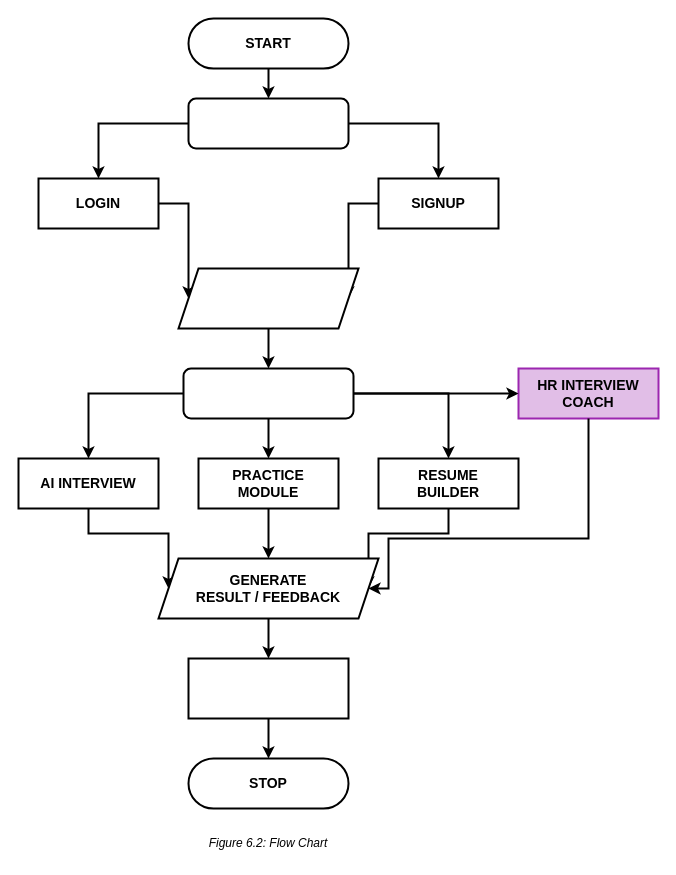
This 676x875 diagram has some shape labels left out. Each missing label, with the centre of its shape:
"CHECK DATABASE" belongs at [268,298].
"DISPLAY PAGE" belongs at [268,123].
"DISPLAY REPORT" belongs at [268,688].
"SELECT FEATURE" belongs at [268,393].
